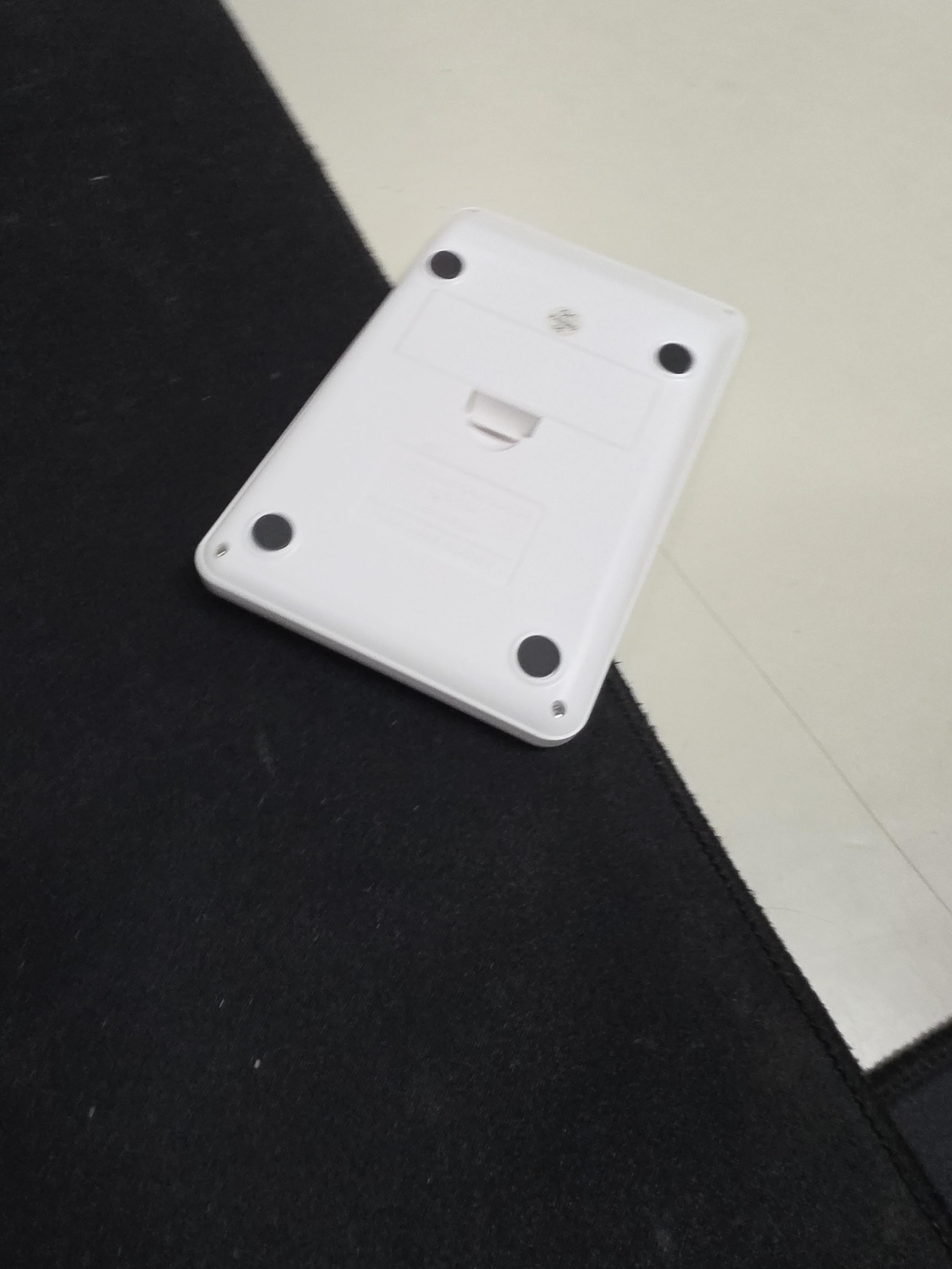calculator: (193, 207, 747, 748)
